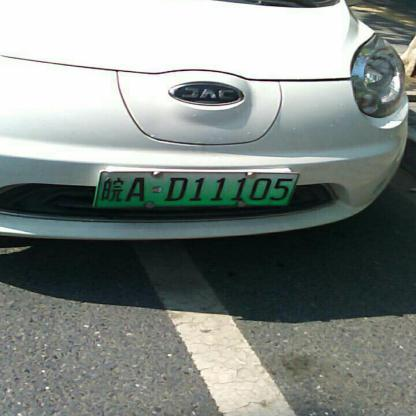lp: (96, 172, 297, 206)
